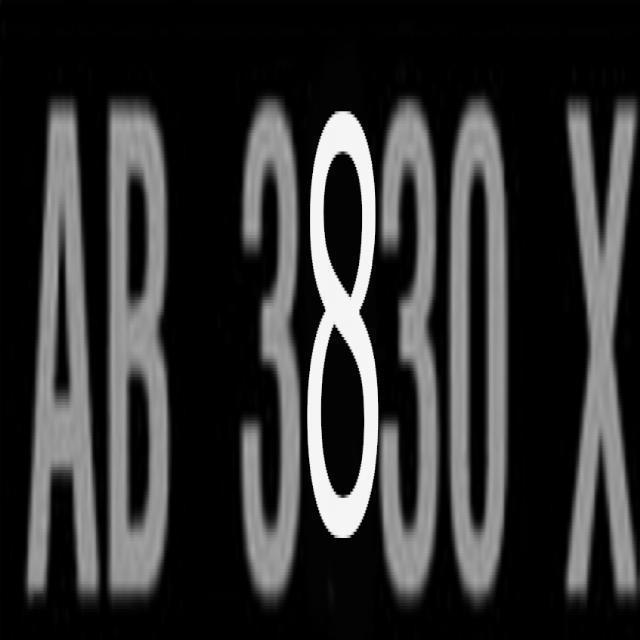0: (458, 83, 501, 597)
3: (238, 96, 302, 598), (381, 93, 438, 601)
8: (314, 103, 380, 549)
A: (27, 92, 102, 604)
B: (101, 99, 198, 600)
X: (560, 78, 640, 609)
